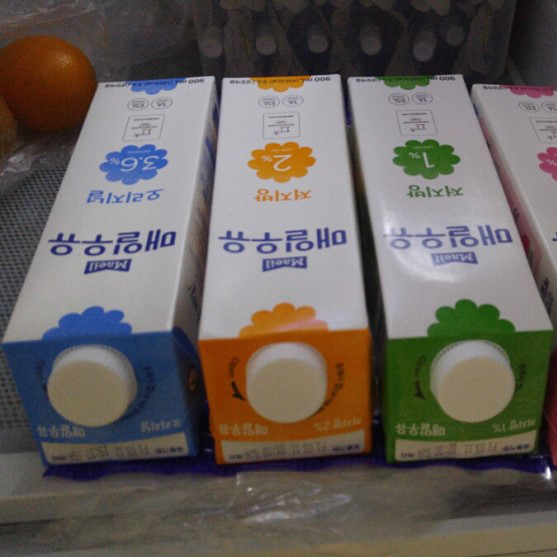milk: (1, 75, 556, 471)
